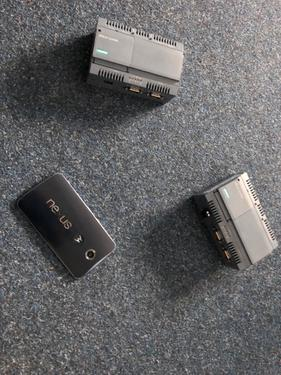device: (192, 173, 279, 272), (86, 18, 184, 105)
